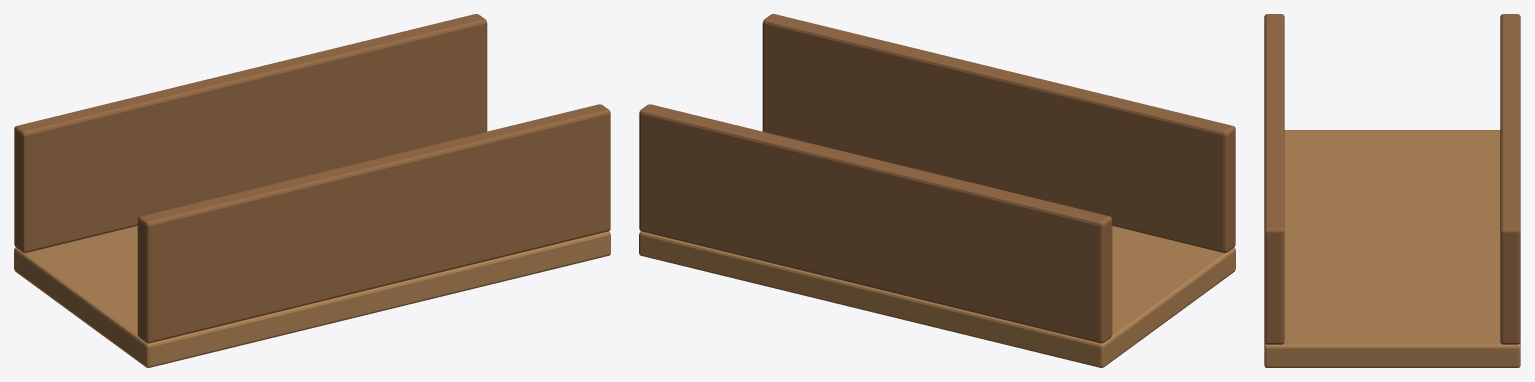
Rendered from bridge_4x2.glb.
3 renders of one model, left to right at view 1: azimuth 30°, elevation 25°; view 2: azimuth 150°, elevation 25°; view 3: azimuth 270°, elevation 25°, orthographic. The views are drawn at different scales.
Visible parts, largest first — view 1: bridge_left_parapet, bridge_right_parapet, bridge_deck; view 2: bridge_right_parapet, bridge_left_parapet, bridge_deck; view 3: bridge_deck, bridge_left_parapet, bridge_right_parapet.
Boxes of the visible parts, x1,y1,x2,y2 form: bridge_left_parapet: (137, 104, 610, 343); bridge_right_parapet: (14, 14, 487, 252); bridge_deck: (14, 226, 610, 367); bridge_right_parapet: (639, 104, 1112, 343); bridge_left_parapet: (762, 14, 1235, 252); bridge_deck: (639, 226, 1235, 367); bridge_deck: (1264, 130, 1520, 367); bridge_left_parapet: (1264, 14, 1284, 344); bridge_right_parapet: (1500, 14, 1520, 344).
Size of the model in its own units: 4 by 1.2 by 2.
